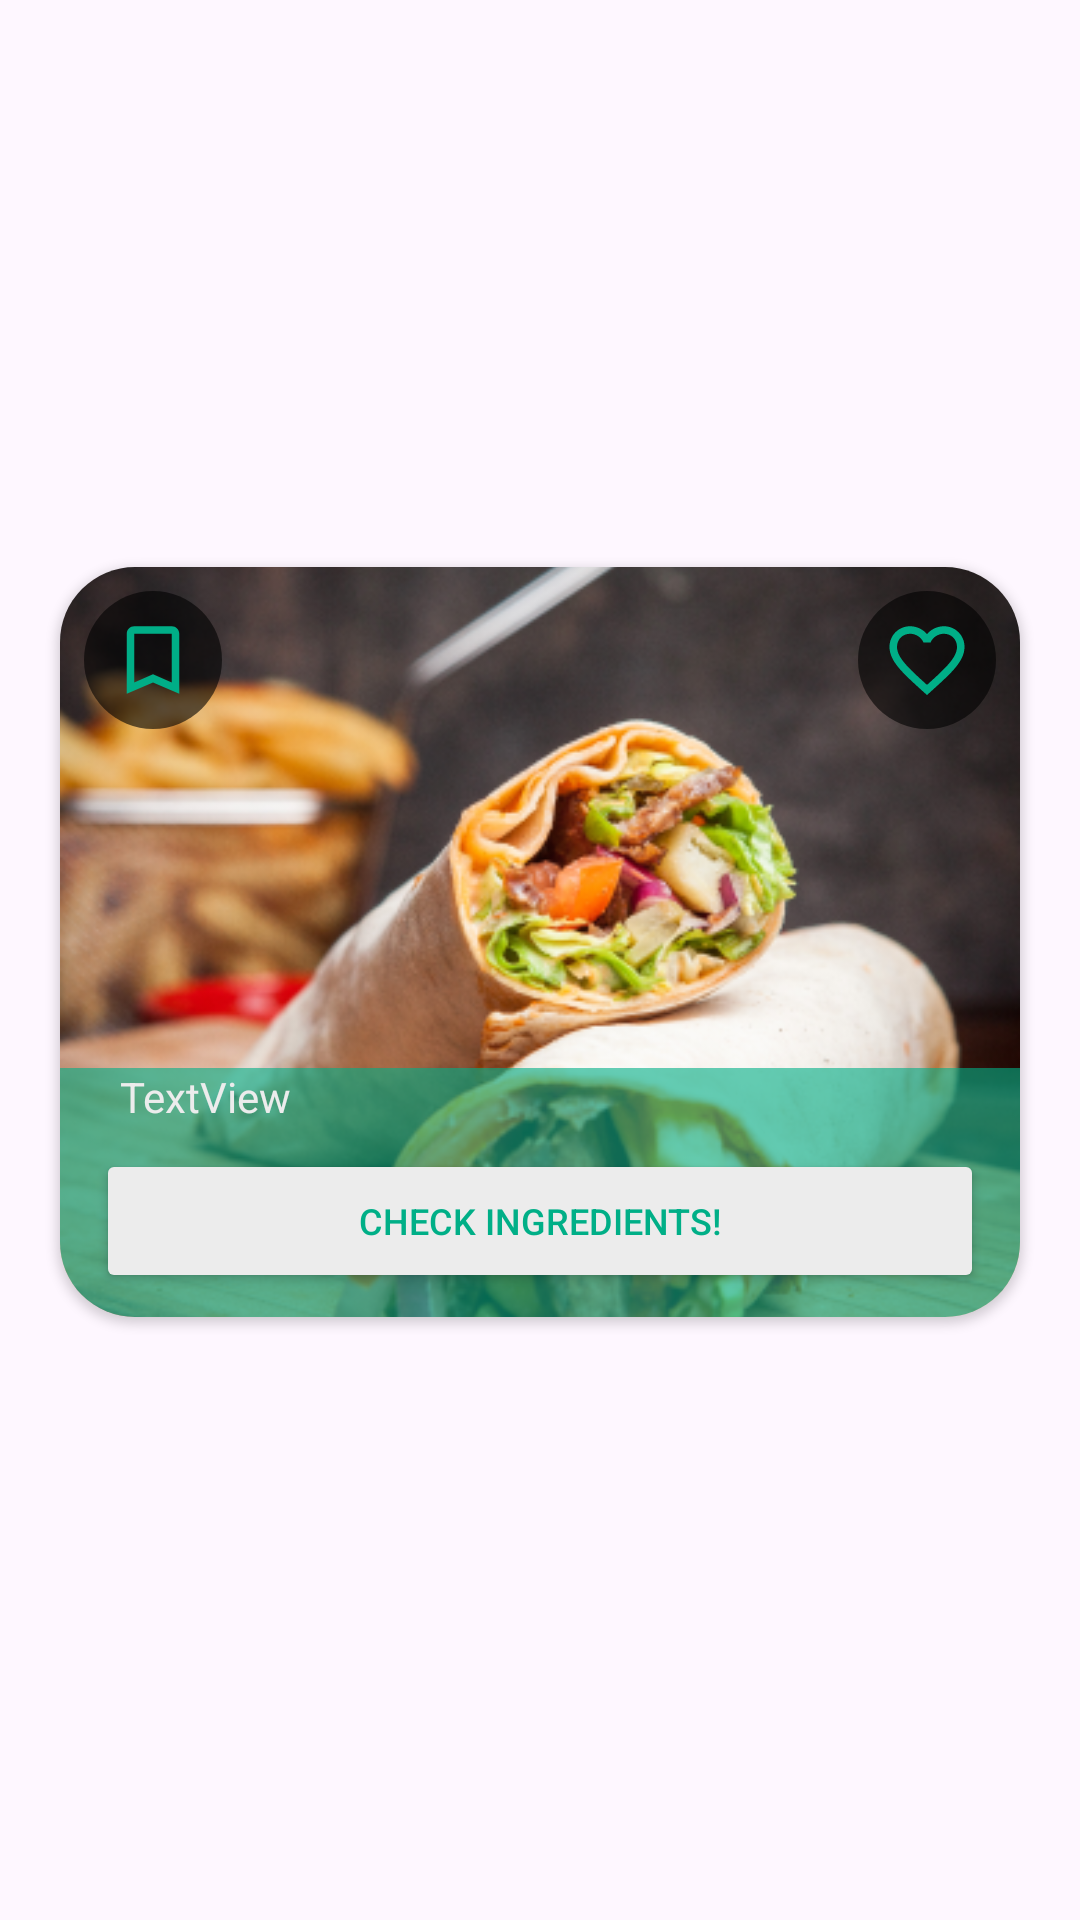

Icons on this 1080*1920 Android screen, each with its box as box=[x1, y1, x2, y2]:
bookmark: box=[84, 591, 222, 729]
favorite: box=[858, 591, 996, 729]
